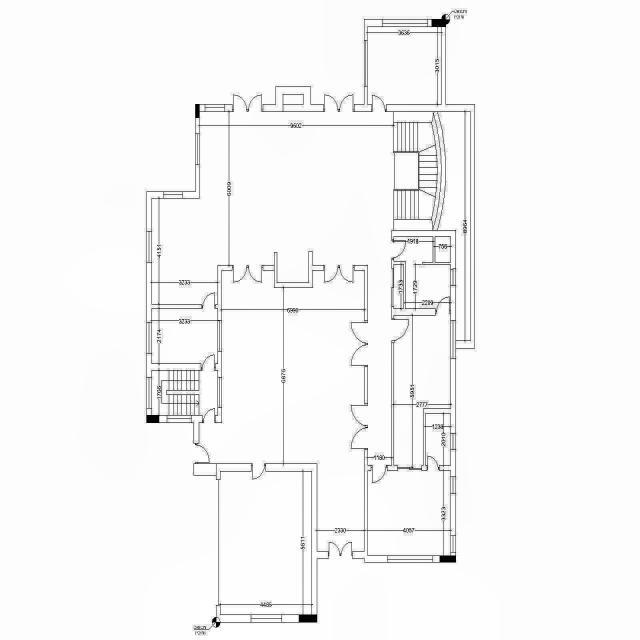Column: (298, 614, 318, 622), (432, 19, 446, 27), (146, 415, 160, 423), (439, 556, 456, 562), (195, 104, 200, 118)
Door: (392, 318, 409, 343), (193, 443, 210, 464), (370, 465, 388, 483), (392, 239, 406, 260), (371, 94, 387, 112), (200, 354, 216, 371), (201, 290, 216, 308), (251, 464, 266, 481), (436, 296, 450, 314), (202, 408, 216, 423), (426, 455, 439, 470)
Double-Door: (350, 403, 368, 450), (351, 320, 368, 368), (232, 93, 263, 112), (323, 94, 355, 112), (232, 265, 263, 283), (324, 265, 354, 283), (328, 542, 353, 560)
Sliding Door: (392, 268, 394, 308), (397, 467, 422, 470)
Staircase: (392, 112, 471, 230), (152, 370, 218, 416)
Window: (382, 19, 428, 27), (387, 556, 433, 562), (250, 614, 282, 622), (450, 320, 456, 358), (166, 415, 192, 423), (146, 230, 152, 262), (146, 322, 152, 354), (146, 377, 152, 409), (364, 40, 368, 86), (205, 104, 225, 112), (195, 134, 200, 166), (218, 319, 222, 352), (218, 377, 222, 408), (163, 192, 183, 198), (450, 476, 456, 494), (450, 268, 456, 286), (450, 433, 456, 450), (450, 536, 456, 552)
